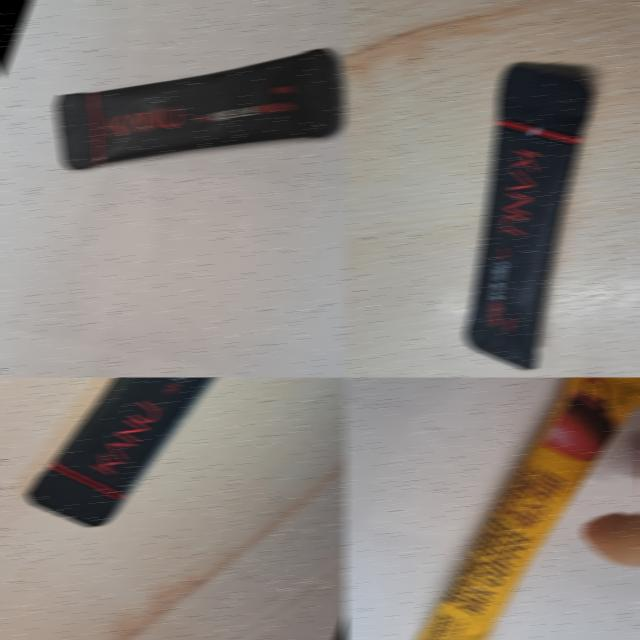KANU: (381, 22, 640, 377), (8, 0, 347, 269), (2, 377, 314, 589)
mix_coffee: (362, 377, 640, 640)
